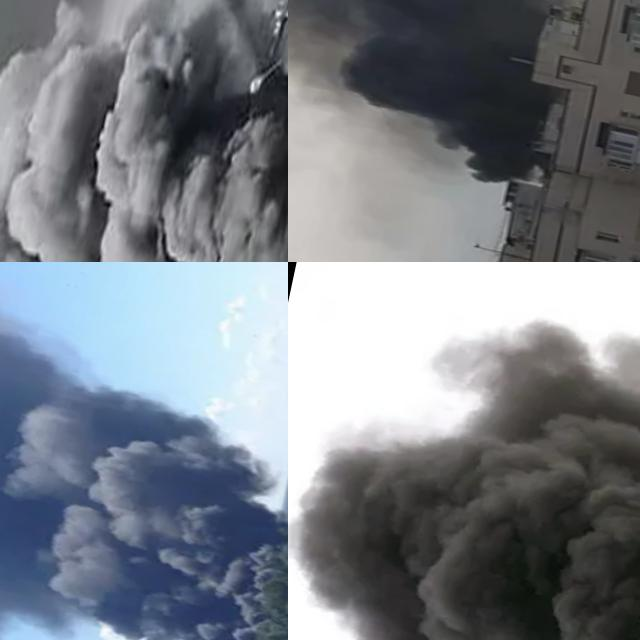smoke: (288, 262, 640, 640), (0, 262, 288, 640), (0, 0, 288, 262), (288, 0, 624, 189)
